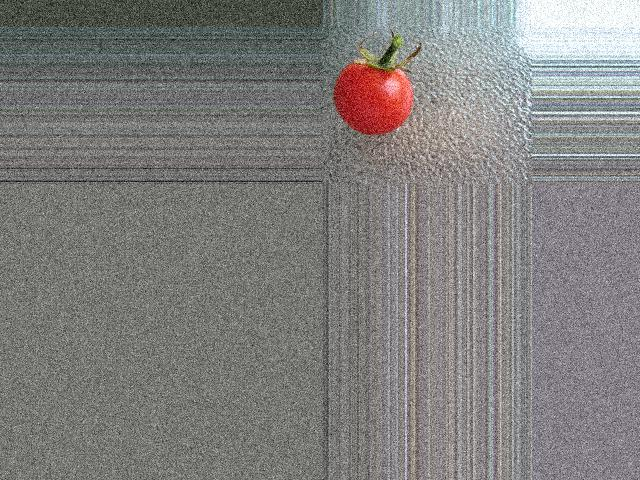tomato: (334, 62, 415, 136)
